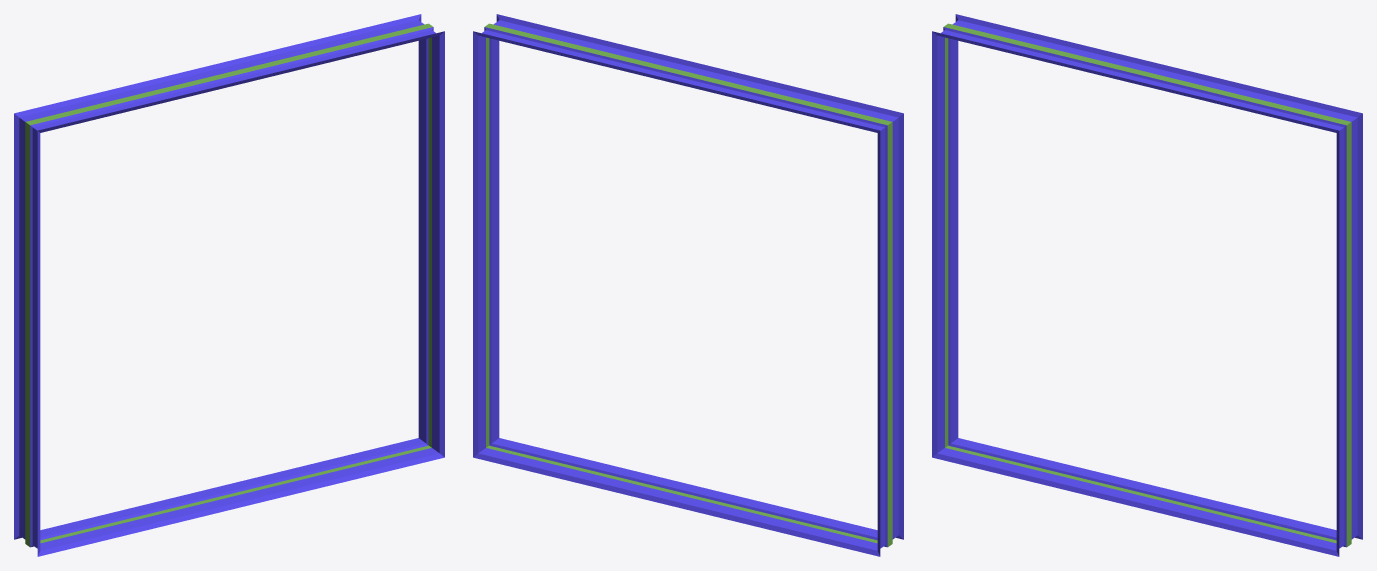
Rendered from ForcefieldDoor_01.FBX.
The picture shows the model from 3 angles, left to right: view 1: azimuth 30°, elevation 25°; view 2: azimuth 150°, elevation 25°; view 3: azimuth 330°, elevation 25°; orthographic projection.
Parts seen in each view (by area): view 1: ForcefieldDoor_01; view 2: ForcefieldDoor_01; view 3: ForcefieldDoor_01.
Part boxes in pixels (x1,y1,x2,y2): ForcefieldDoor_01: (14,14,444,556); ForcefieldDoor_01: (473,14,903,556); ForcefieldDoor_01: (932,14,1362,556).
Size of the model in its own units: 4 by 4 by 0.4.
